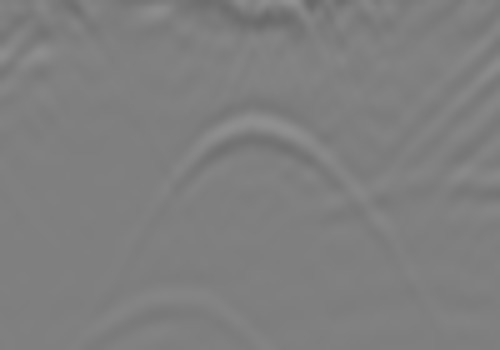hyperbola: (113, 103, 410, 286)
